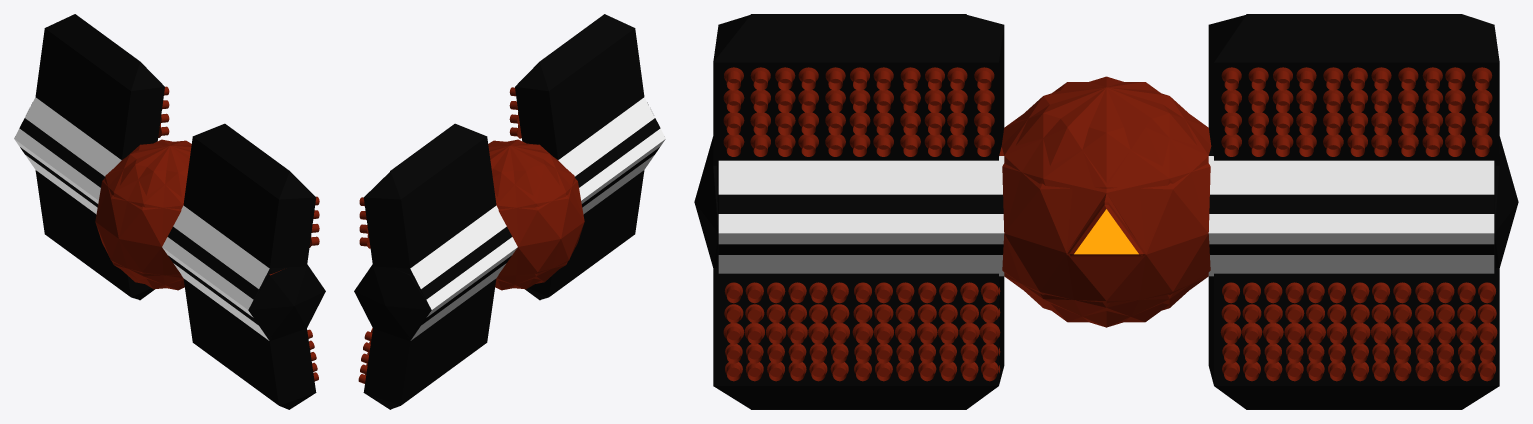
File: Robot_Destroyer.fbx
3 renders of one model, left to right at view 1: azimuth 30°, elevation 25°; view 2: azimuth 150°, elevation 25°; view 3: azimuth 270°, elevation 25°, orthographic. The views are drawn at different scales.
Visible parts, largest first — view 1: Robot_Destroyer; view 2: Robot_Destroyer; view 3: Robot_Destroyer.
Boxes of the visible parts, box(x1,y1,x2,y2) form: Robot_Destroyer: box(14, 14, 325, 409); Robot_Destroyer: box(354, 14, 665, 409); Robot_Destroyer: box(694, 14, 1518, 409).
Size of the model in its own units: 202 by 345 by 652.
